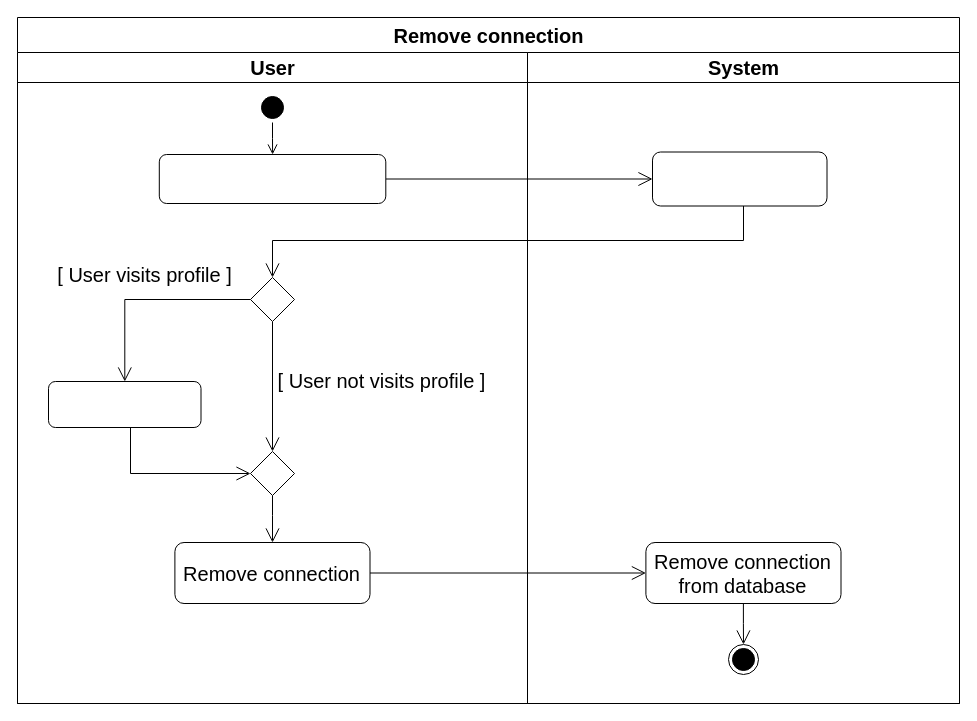
This 977x721 diagram has some shape labels left out. The centre of each missing label's shape, as x and y in pixels:
"get connected users" goes at point 739,178.
"View a profile" goes at point 124,404.
"View my connections" goes at point 272,179.
